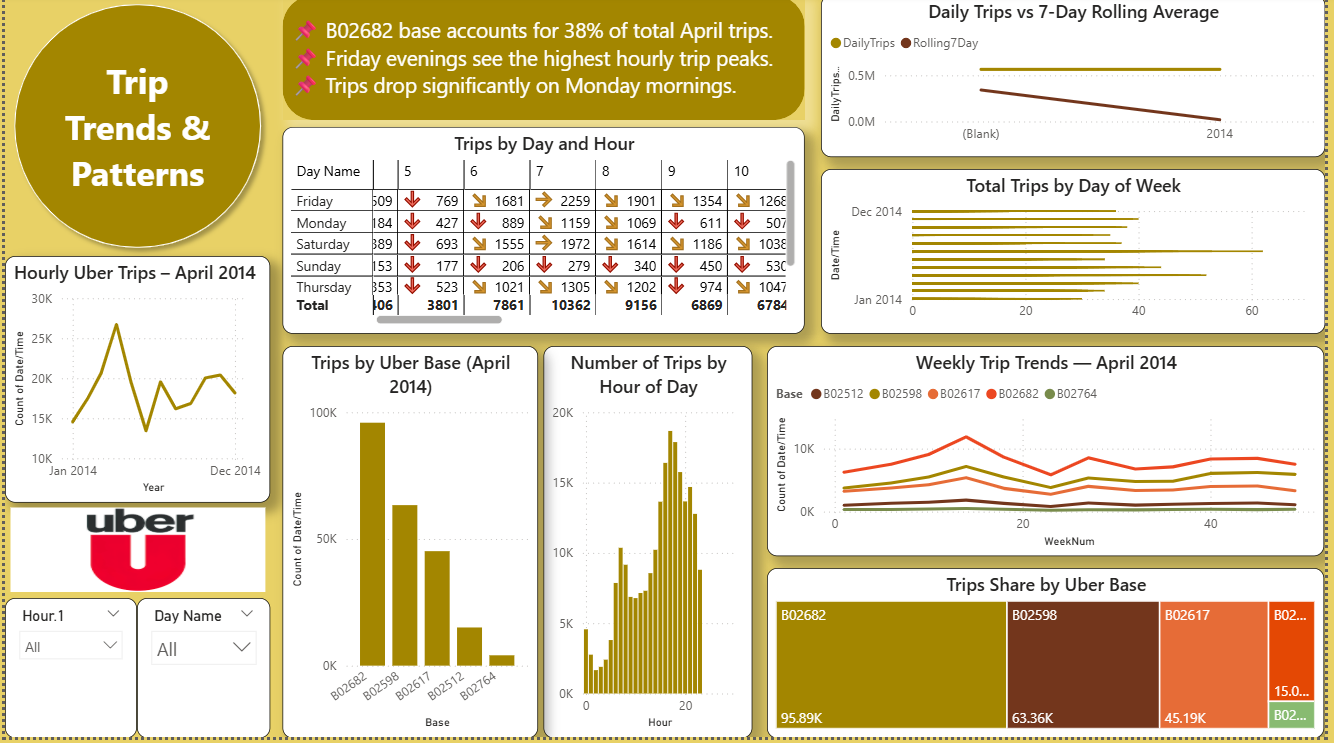

The page's visual inventory and layout, read from the dashboard file:
{"tool":"powerbi","page":{"name":"Page 1","canvas":[1280,720],"ordinal":0},"visuals":[{"type":"lineChart","title":"Hourly Uber Trips – April 2014","fields":{"Y":["CountNonNull(uber-raw-data-apr14.Date/Time)"],"Category":["uber-raw-data-apr14.Date/Time.Variation.Date Hierarchy.Year","uber-raw-data-apr14.Date/Time.Variation.Date Hierarchy.Quarter","uber-raw-data-apr14.Date/Time.Variation.Date Hierarchy.Month","uber-raw-data-apr14.Date/Time.Variation.Date Hierarchy.Day"]},"box":[0,252.6,257.5,239.6],"z":0},{"type":"pivotTable","title":"Trips by Day and Hour","fields":{"Rows":["uber-raw-data-apr14.Day Name"],"Columns":["uber-raw-data-apr14.Hour"],"Values":["CountNonNull(uber-raw-data-apr14.Date/Time)"]},"box":[268.8,127.9,506.8,200.8],"z":1000},{"type":"clusteredColumnChart","title":"Number of Trips by Hour of Day","fields":{"Category":["uber-raw-data-apr14.Hour"],"Y":["CountNonNull(uber-raw-data-apr14.Date/Time)"]},"box":[523,340,202.4,380.5],"z":2000},{"type":"lineChart","title":"Daily Trips vs 7-Day Rolling Average","fields":{"Category":["uber-raw-data-apr14.DateOnly.Variation.Date Hierarchy.Year","uber-raw-data-apr14.DateOnly.Variation.Date Hierarchy.Quarter","uber-raw-data-apr14.DateOnly.Variation.Date Hierarchy.Month","uber-raw-data-apr14.DateOnly.Variation.Date Hierarchy.Day"],"Y":["uber-raw-data-apr14.DailyTrips","uber-raw-data-apr14.Rolling7Day"]},"box":[791.8,0,489,157.1],"z":3000},{"type":"barChart","title":"Total Trips by Day of Week","fields":{"Y":["CountNonNull(uber-raw-data-apr14.Day Name)"],"Category":["uber-raw-data-apr14.Date/Time"]},"box":[791.8,168.4,489,160.3],"z":4000},{"type":"lineChart","title":"Weekly Trip Trends — April 2014","fields":{"Category":["uber-raw-data-apr14.WeekNum"],"Y":["CountNonNull(uber-raw-data-apr14.Date/Time)"],"Series":["uber-raw-data-apr14.Base"]},"box":[740,340,540.8,204],"z":5000},{"type":"clusteredColumnChart","title":"Trips by Uber Base (April 2014)","fields":{"Category":["uber-raw-data-apr14.Base"],"Y":["CountNonNull(uber-raw-data-apr14.Date/Time)"]},"box":[268.8,340,247.7,380.5],"z":6000},{"type":"treemap","title":"Trips Share by Uber Base","fields":{"Group":["uber-raw-data-apr14.Base"],"Values":["CountNonNull(uber-raw-data-apr14.Date/Time)"]},"box":[740,555.4,540.8,165.2],"z":7000},{"type":"slicer","fields":{"Values":["uber-raw-data-apr14.Day Name"]},"box":[127.9,584.5,129.5,136],"z":8000},{"type":"slicer","fields":{"Values":["uber-raw-data-apr14.Hour"]},"box":[0,584.5,127.9,136],"z":9000},{"type":"shape","box":[0,0,257.5,254.2],"z":10000},{"type":"image","box":[0,492.2,257.5,92.3],"z":11000},{"type":"shape","box":[268.8,0,506.8,121.4],"z":12000}]}

Visuals, with their boxes in screenshot pixels (x1, y1, x2, y2), scaled from the page's 1280x720 canvas onto the 1334x743 screenshot:
"Hourly Uber Trips – April 2014" lineChart: {"x1": 0, "y1": 261, "x2": 268, "y2": 508}
"Trips by Day and Hour" pivotTable: {"x1": 280, "y1": 132, "x2": 808, "y2": 339}
"Number of Trips by Hour of Day" clusteredColumnChart: {"x1": 545, "y1": 351, "x2": 756, "y2": 742}
"Daily Trips vs 7-Day Rolling Average" lineChart: {"x1": 825, "y1": 0, "x2": 1333, "y2": 162}
"Total Trips by Day of Week" barChart: {"x1": 825, "y1": 174, "x2": 1333, "y2": 339}
"Weekly Trip Trends — April 2014" lineChart: {"x1": 771, "y1": 351, "x2": 1333, "y2": 561}
"Trips by Uber Base (April 2014)" clusteredColumnChart: {"x1": 280, "y1": 351, "x2": 538, "y2": 742}
"Trips Share by Uber Base" treemap: {"x1": 771, "y1": 573, "x2": 1333, "y2": 742}
slicer - uber-raw-data-apr14.Day Name: {"x1": 133, "y1": 603, "x2": 268, "y2": 742}
slicer - uber-raw-data-apr14.Hour: {"x1": 0, "y1": 603, "x2": 133, "y2": 742}
shape: {"x1": 0, "y1": 0, "x2": 268, "y2": 262}
image: {"x1": 0, "y1": 508, "x2": 268, "y2": 603}
shape: {"x1": 280, "y1": 0, "x2": 808, "y2": 125}
